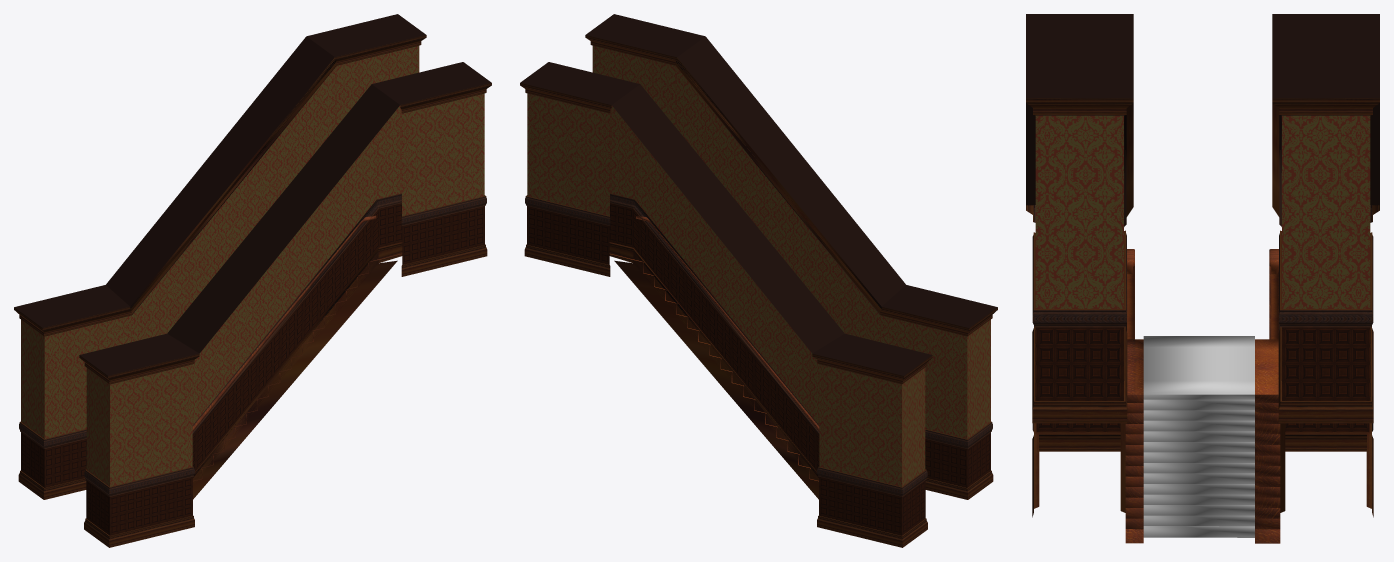
The model's file is StaircaseStrLarge.fbx.
3 views of the same model, side by side, from view 1: azimuth 30°, elevation 25°; view 2: azimuth 150°, elevation 25°; view 3: azimuth 270°, elevation 25° (orthographic). The views are drawn at different scales.
Parts seen in each view (by area): view 1: StaircaseStrLarge; view 2: StaircaseStrLarge; view 3: StaircaseStrLarge.
Boxes of the visible parts, box(x1,y1,x2,y2) form: StaircaseStrLarge: box(14, 14, 491, 547); StaircaseStrLarge: box(520, 14, 997, 547); StaircaseStrLarge: box(1026, 14, 1379, 543).
Size of what is drawn, in the model's own units: 857 by 800 by 363.
